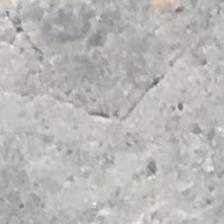Non_Crack: (29, 31, 194, 176)
